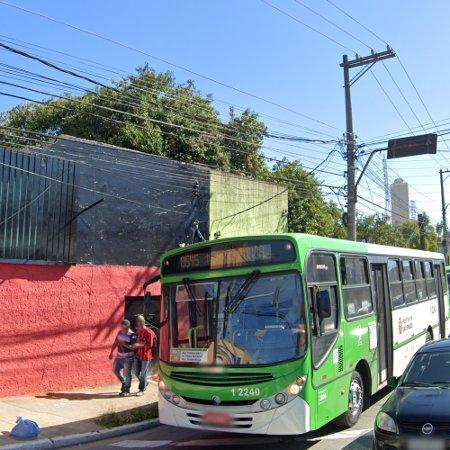buses: (161, 234, 450, 436)
